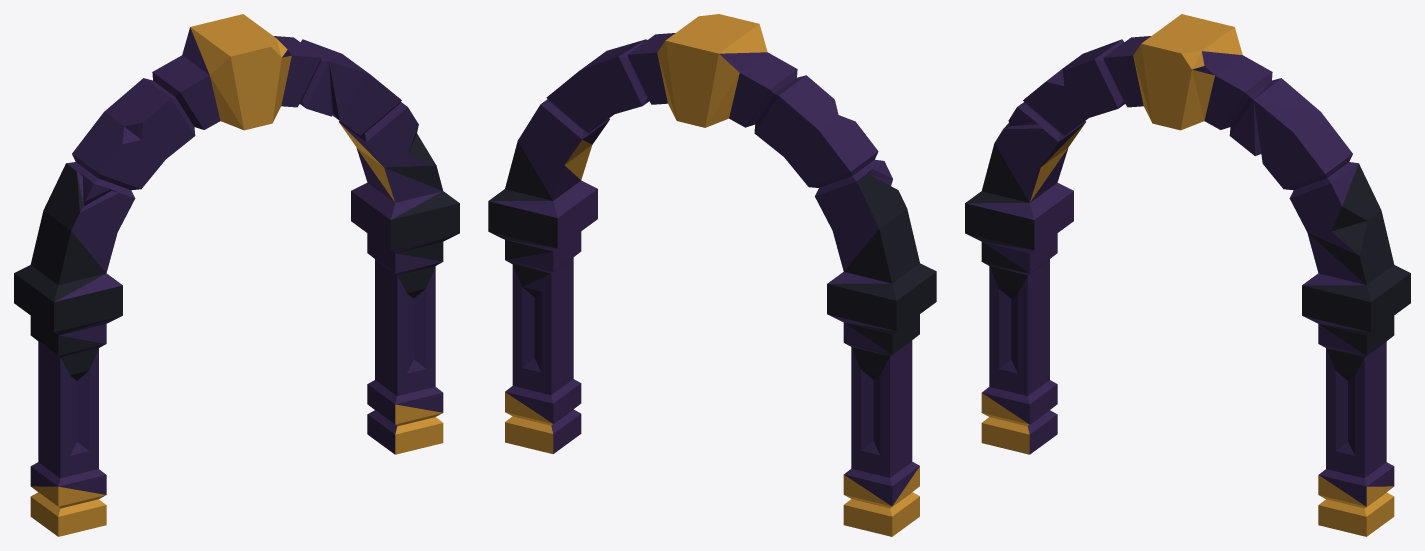
Rendered from void_portal_arch.obj.
The picture shows the model from 3 angles, left to right: view 1: azimuth 30°, elevation 25°; view 2: azimuth 150°, elevation 25°; view 3: azimuth 330°, elevation 25°; orthographic projection.
Parts seen in each view (by area): view 1: VoidPortalArch; view 2: VoidPortalArch; view 3: VoidPortalArch.
Boxes of the visible parts, x1,y1,x2,y2 form: VoidPortalArch: (14,14,459,536); VoidPortalArch: (488,14,936,536); VoidPortalArch: (965,14,1410,536).
Size of the model in its own units: 0.0422 by 0.0441 by 0.0077.
